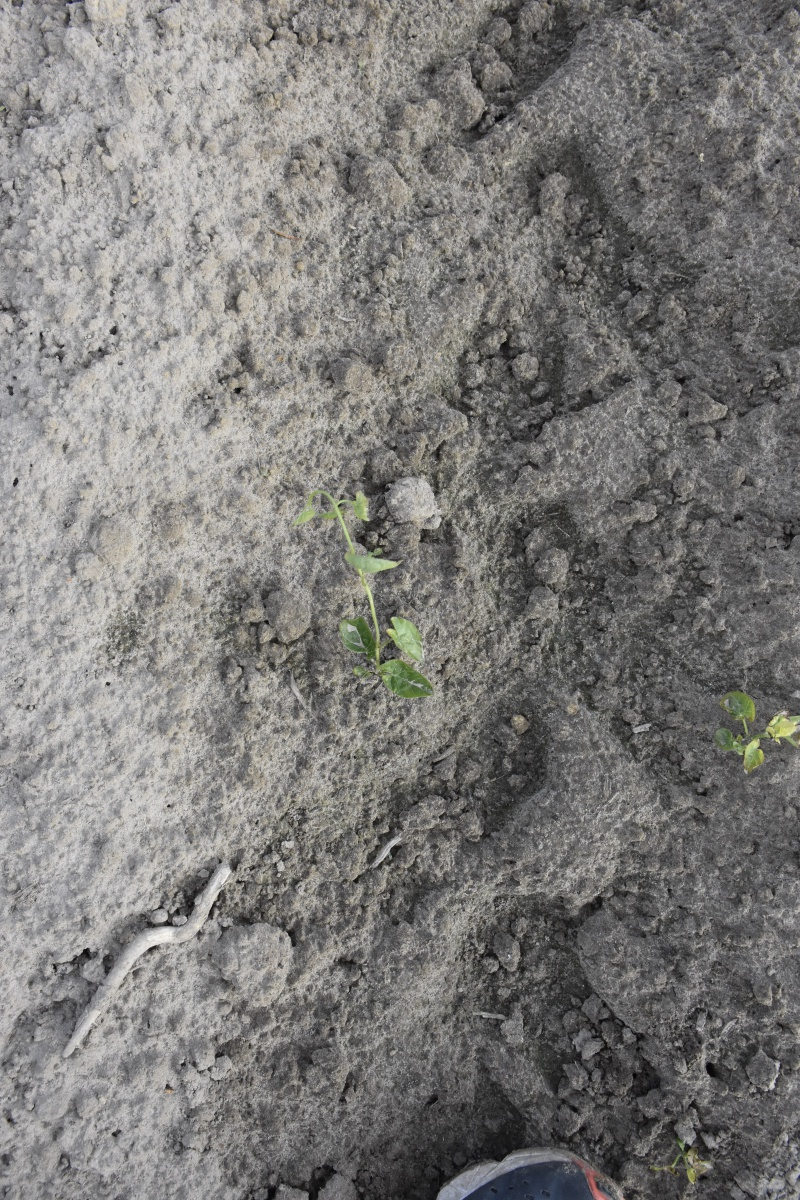field bindweed: (303, 486, 443, 716), (727, 678, 800, 763)
